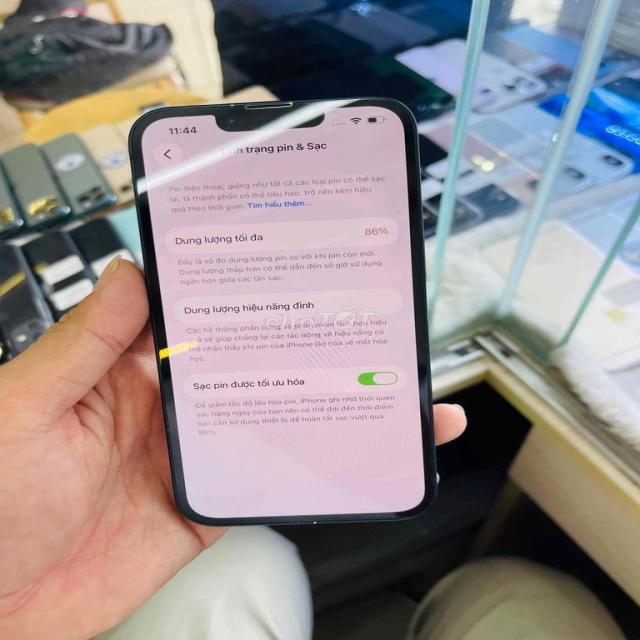gen_12_13: (117, 93, 450, 548)
